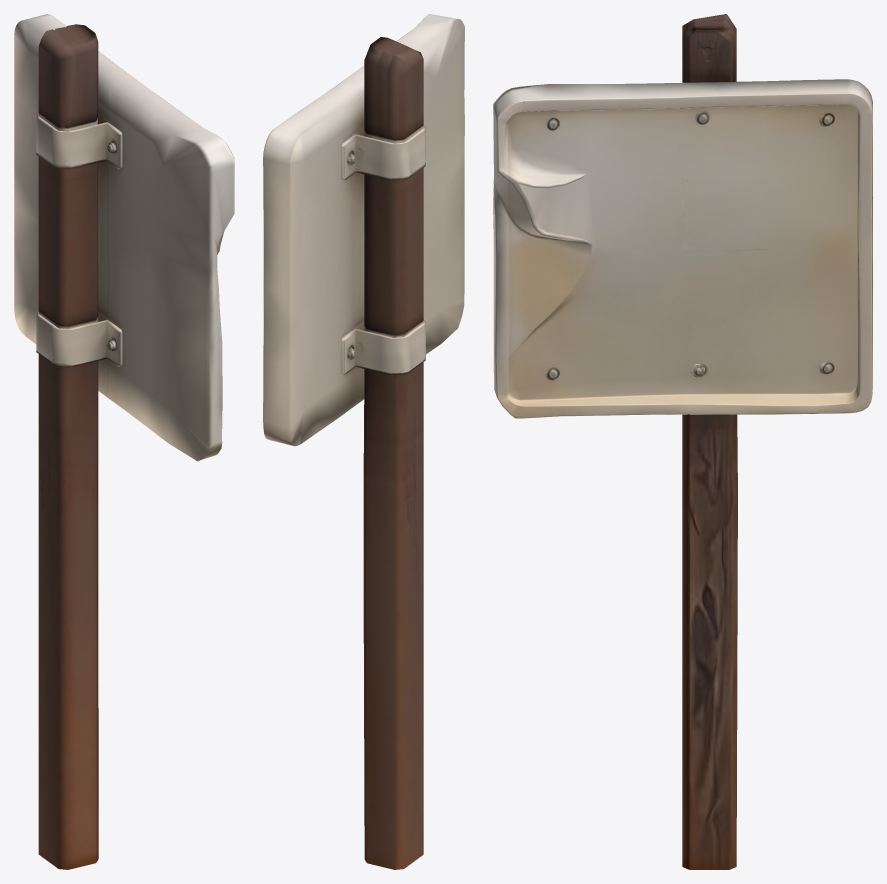
The model's file is q3d-41-small.glb.
3 views of the same model, side by side, from view 1: azimuth 30°, elevation 25°; view 2: azimuth 150°, elevation 25°; view 3: azimuth 270°, elevation 25° (orthographic). The views are drawn at different scales.
Size of the model in its own units: 0.1157 by 0.9995 by 0.4097.
1 material, 1 textured.
